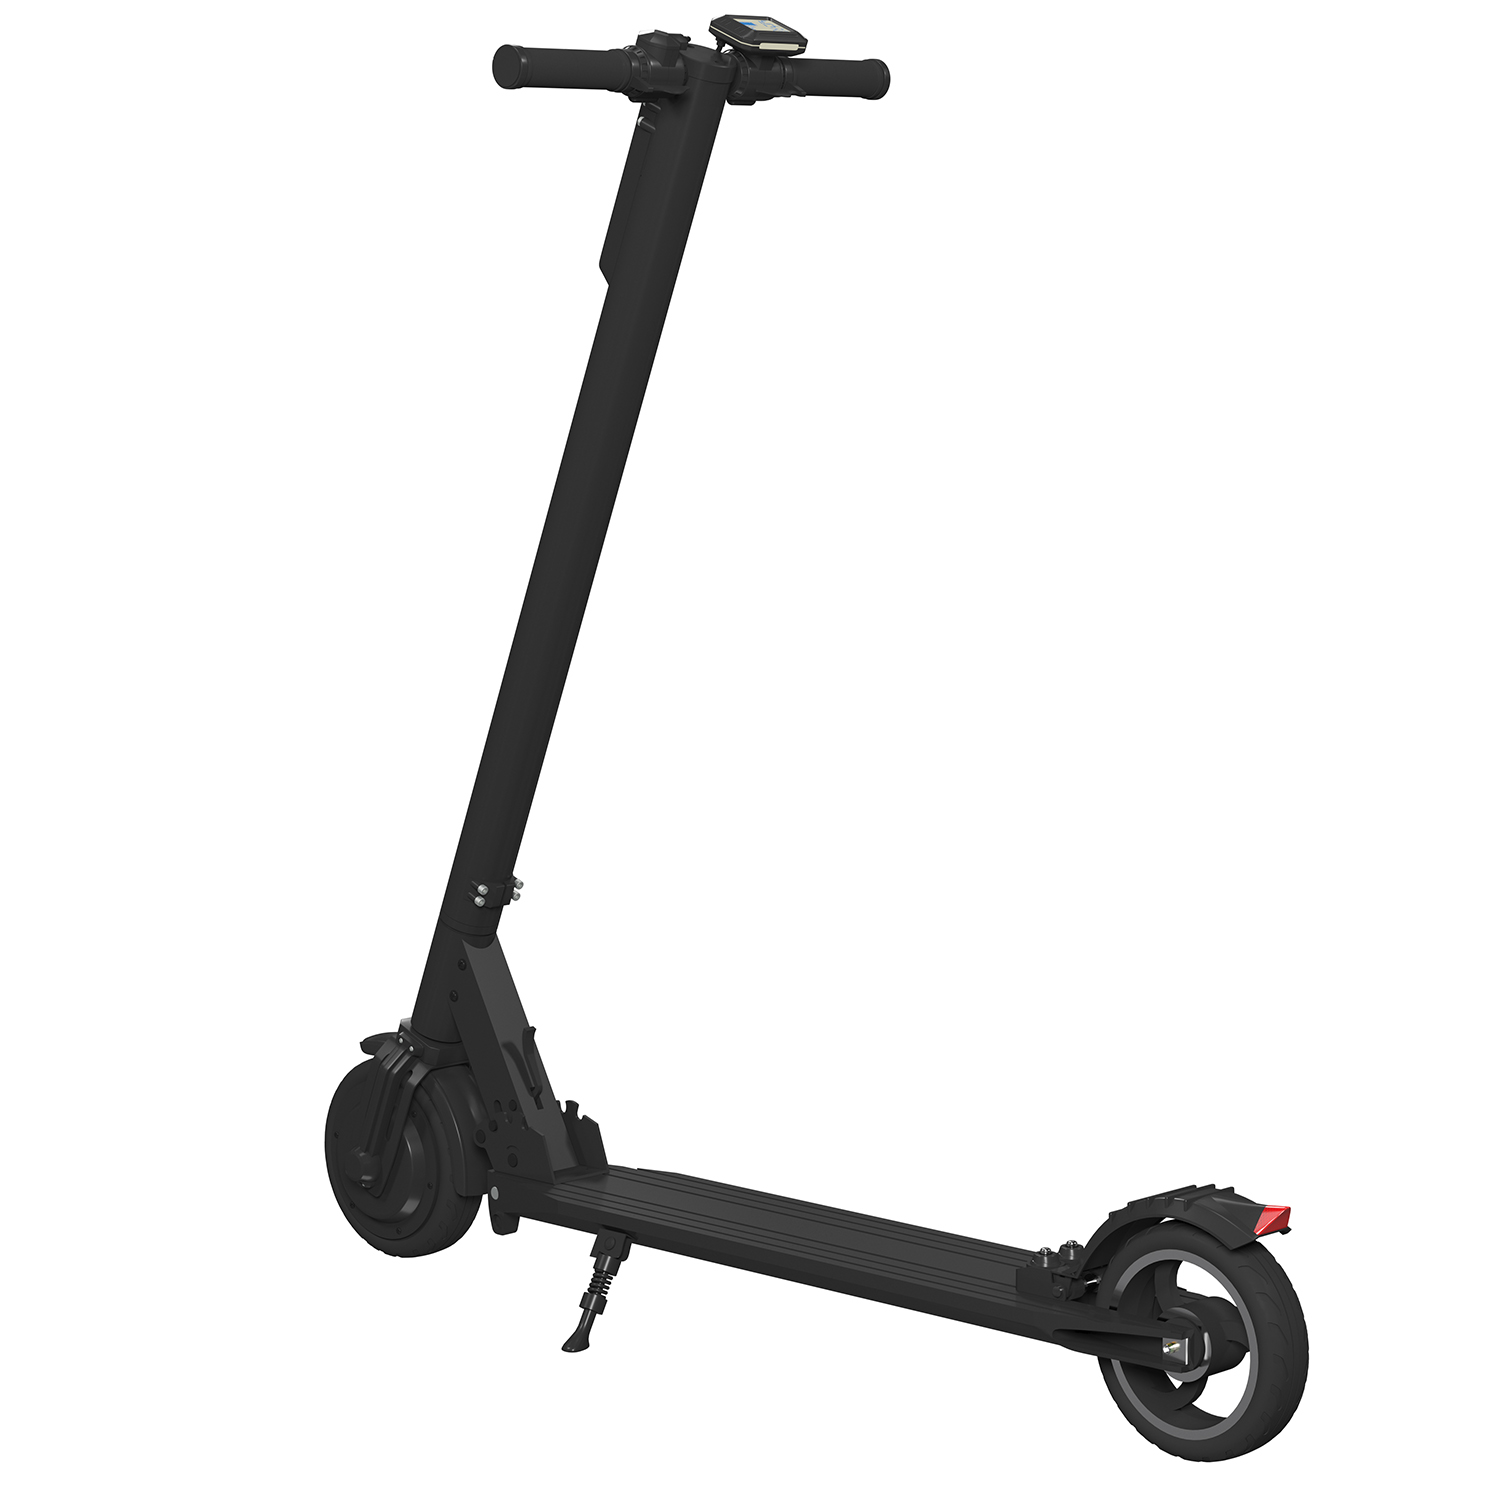scooter: (319, 5, 1321, 1468)
